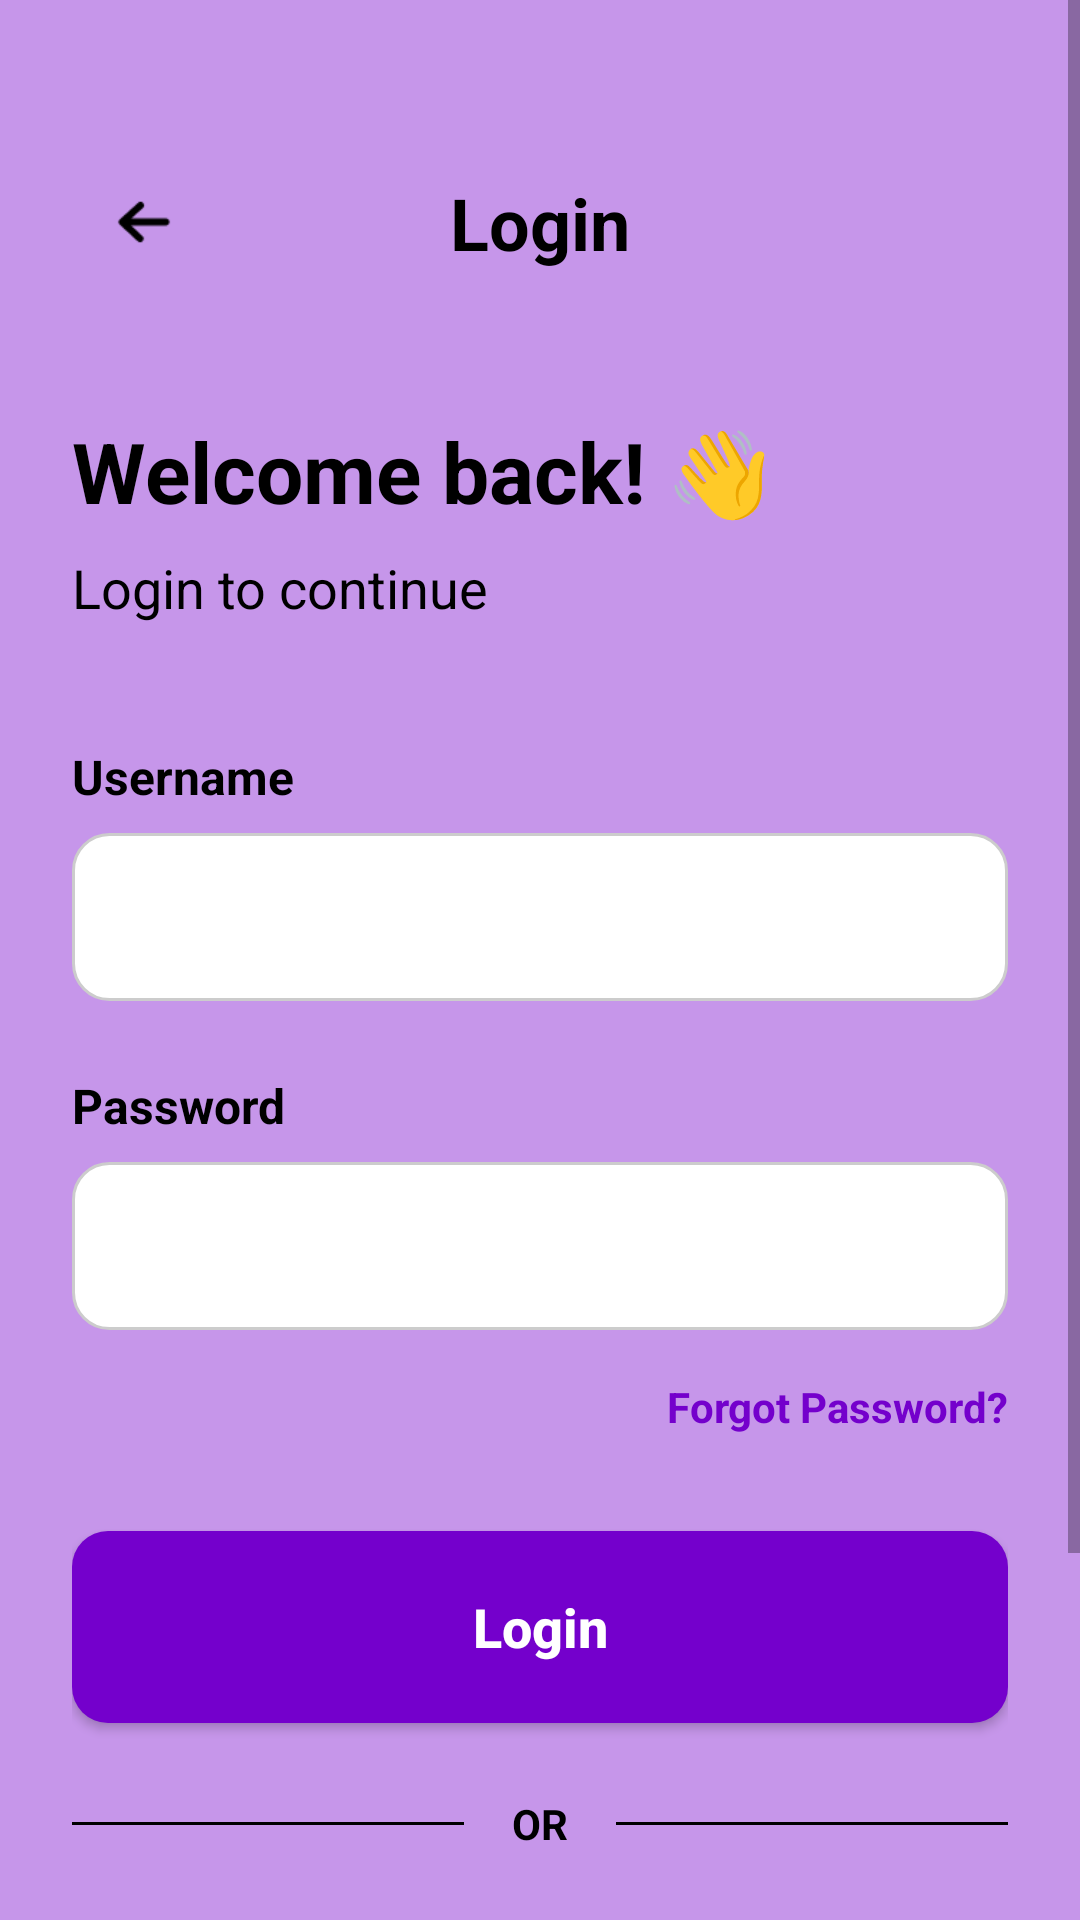

Screen size 1080px x 1920px. Icon name, then its center in pixels as (x=x, y=y):
back arrow: (x=144, y=222)
